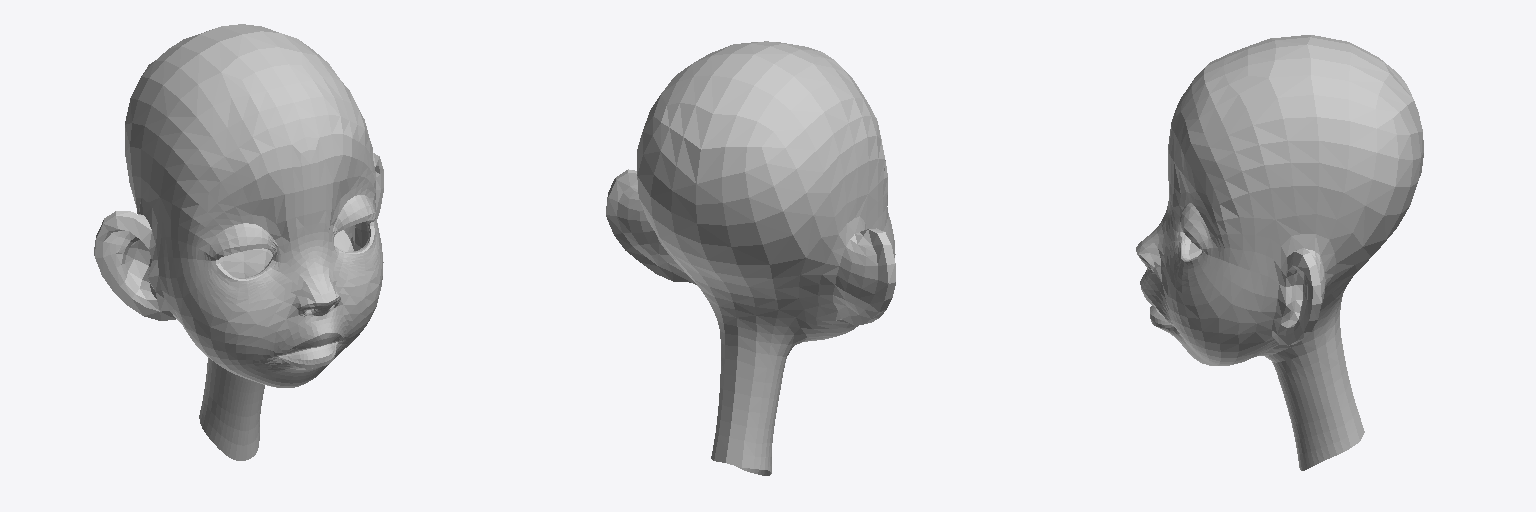
Rendered from innerBrowRaiser.obj.
3 renders of one model, left to right at view 1: azimuth 30°, elevation 25°; view 2: azimuth 150°, elevation 25°; view 3: azimuth 270°, elevation 25°, orthographic.
Parts seen in each view (by area): view 1: ZBrushPolyMesh3D; view 2: ZBrushPolyMesh3D; view 3: ZBrushPolyMesh3D.
Boxes of the visible parts, <box> form: ZBrushPolyMesh3D: <box>94,24,383,460</box>; ZBrushPolyMesh3D: <box>606,41,895,475</box>; ZBrushPolyMesh3D: <box>1136,35,1423,470</box>.
Bounding box in the file's own units: 5.74 × 8.03 × 4.96.